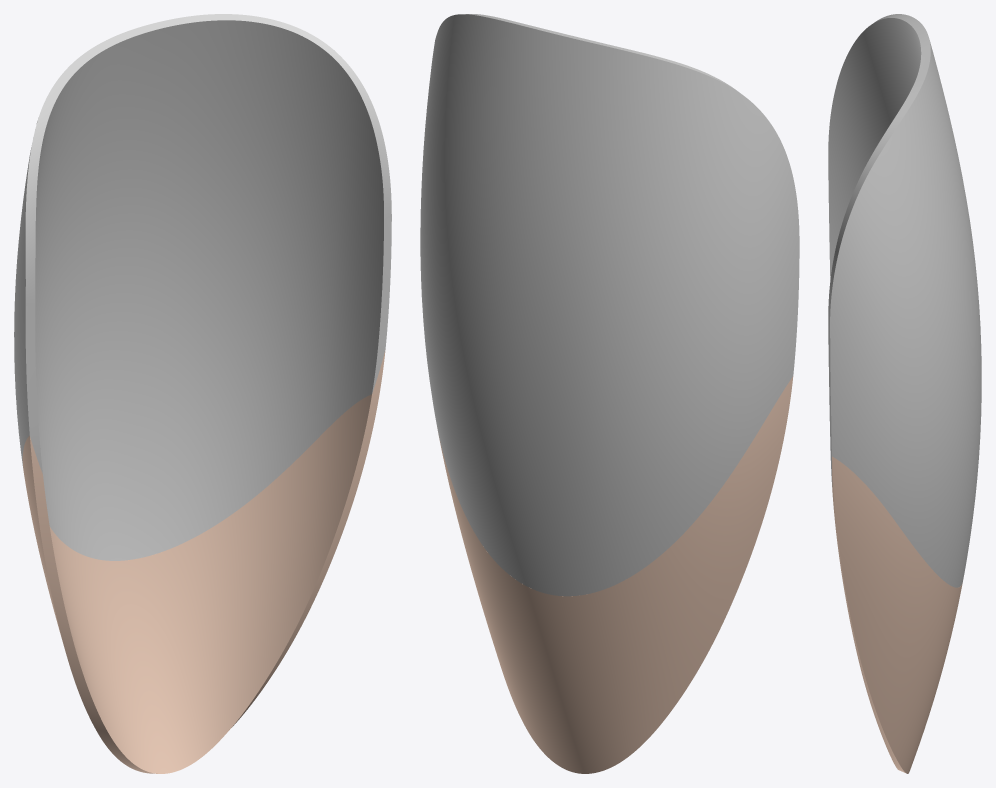
The model's file is fenandtou_d0_clean.obj.
3 renders of one model, left to right at view 1: azimuth 30°, elevation 25°; view 2: azimuth 150°, elevation 25°; view 3: azimuth 270°, elevation 25°, orthographic. The views are drawn at different scales.
Size of the model in its own units: 12.39 by 23.96 by 4.65.
